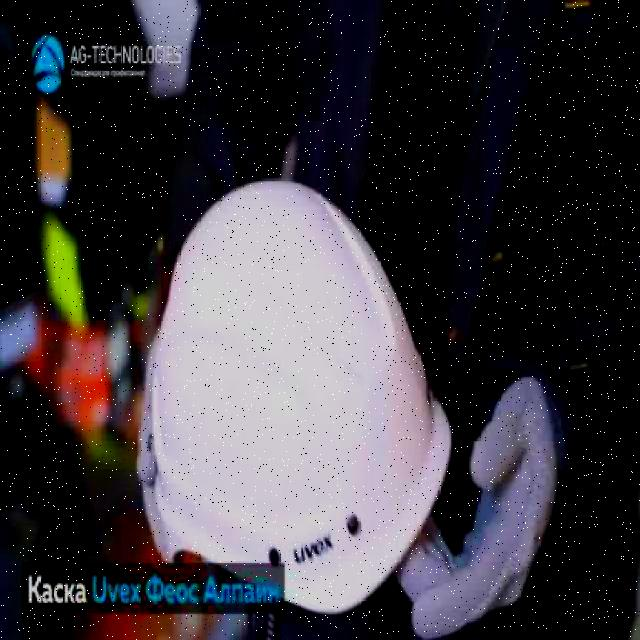Gloves: (396, 371, 564, 638)
Helmet: (148, 176, 454, 615)
